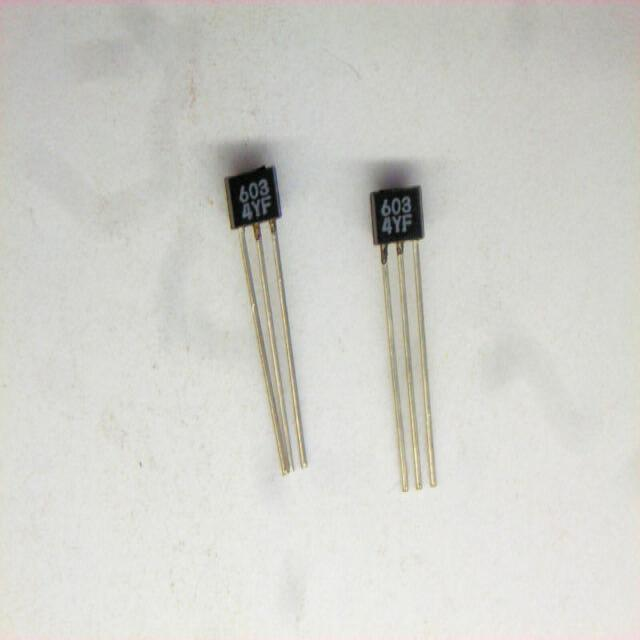Transistor: (210, 149, 324, 485), (357, 176, 458, 504)
